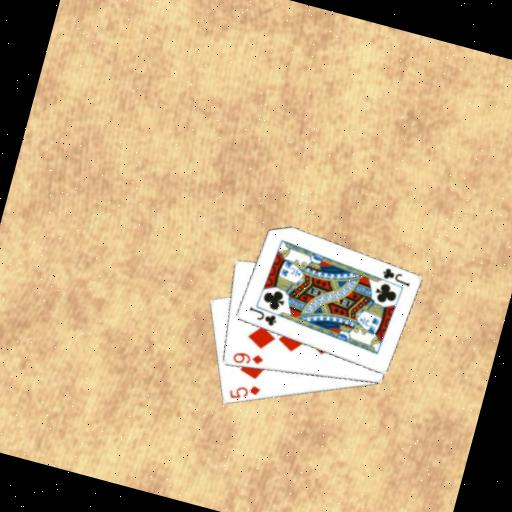5D: (224, 377, 262, 407)
9D: (228, 345, 265, 370)
JC: (242, 302, 280, 329), (377, 263, 413, 288)
